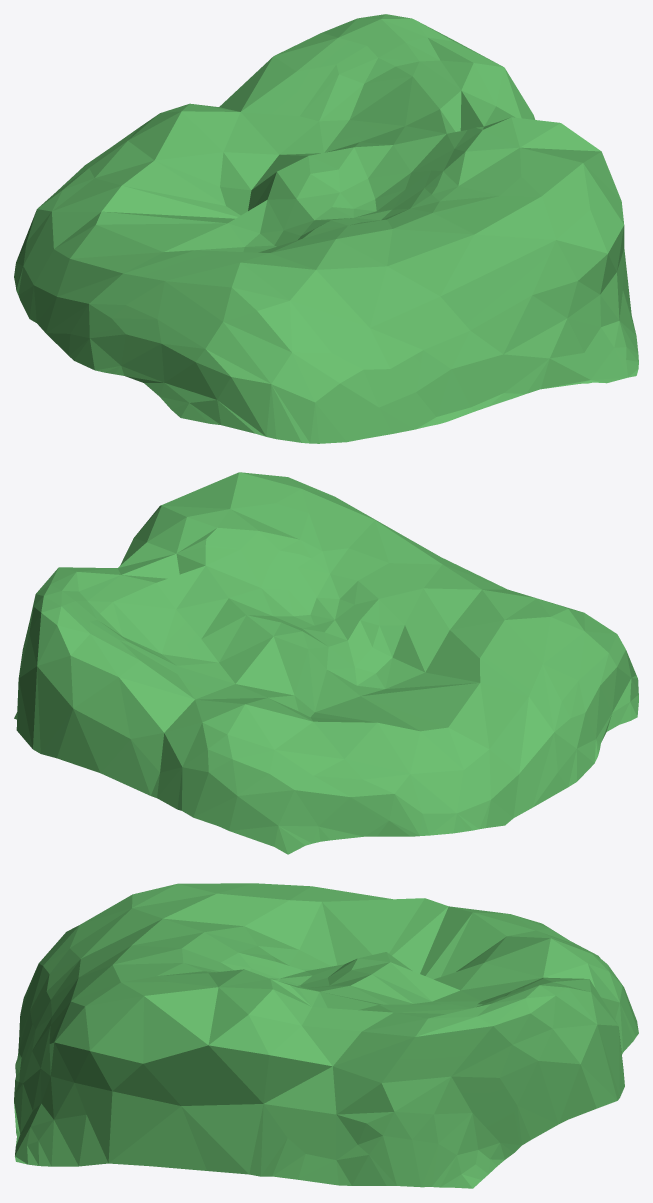
File: ground_046.fbx
The picture shows the model from 3 angles, top to bottom: view 1: azimuth 30°, elevation 25°; view 2: azimuth 150°, elevation 25°; view 3: azimuth 270°, elevation 25°; orthographic projection. The views are drawn at different scales.
Visible parts, largest first — view 1: ground.047; view 2: ground.047; view 3: ground.047.
Boxes of the visible parts, x1=… form: ground.047: x1=14, y1=14, x2=638, y2=443; ground.047: x1=14, y1=472, x2=638, y2=854; ground.047: x1=14, y1=883, x2=638, y2=1188.
Size of the model in its own units: 2343 by 748 by 2399.
Materials: 1 (1 with a texture image).
